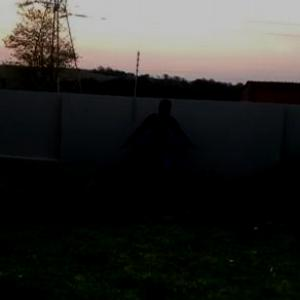land: (119, 91, 199, 204)
